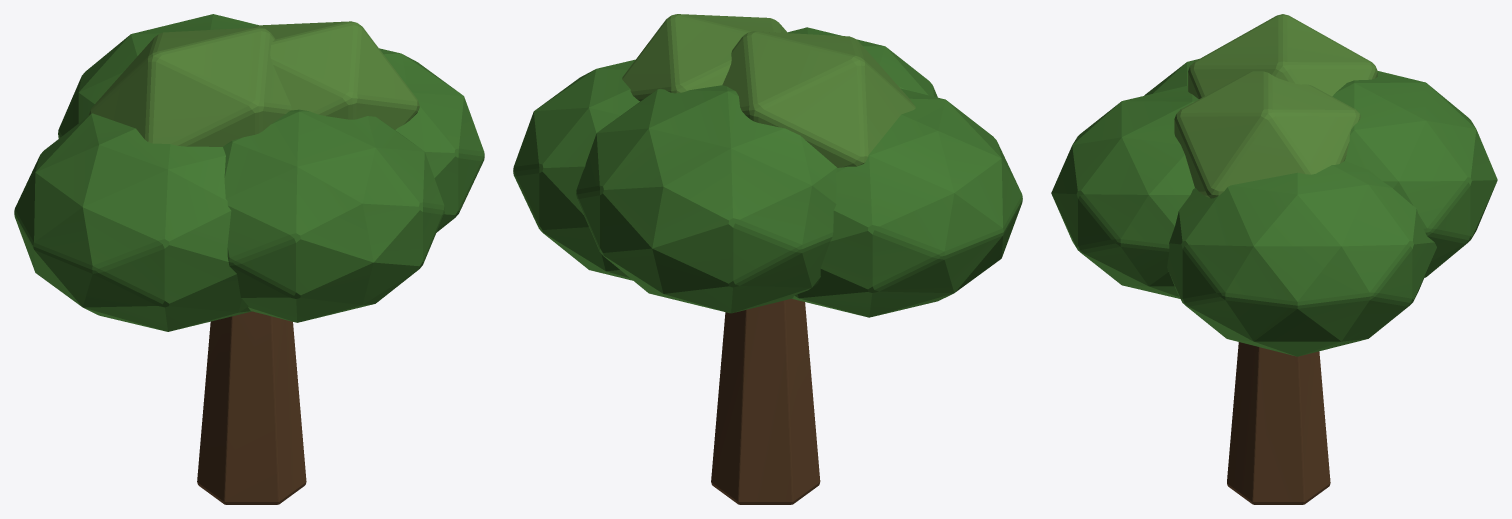
The model's file is prop_oak.glb.
The picture shows the model from 3 angles, left to right: view 1: azimuth 30°, elevation 25°; view 2: azimuth 150°, elevation 25°; view 3: azimuth 270°, elevation 25°; orthographic projection. The views are drawn at different scales.
Parts seen in each view (by area): view 1: prop_oak_part_0; view 2: prop_oak_part_0; view 3: prop_oak_part_0.
Boxes of the visible parts, left/top/right/bottom form: prop_oak_part_0: left=14, top=14, right=484, bottom=504; prop_oak_part_0: left=513, top=14, right=1022, bottom=504; prop_oak_part_0: left=1051, top=14, right=1497, bottom=504.
Bounding box in the file's own units: 4.72 × 4.52 × 4.25.
